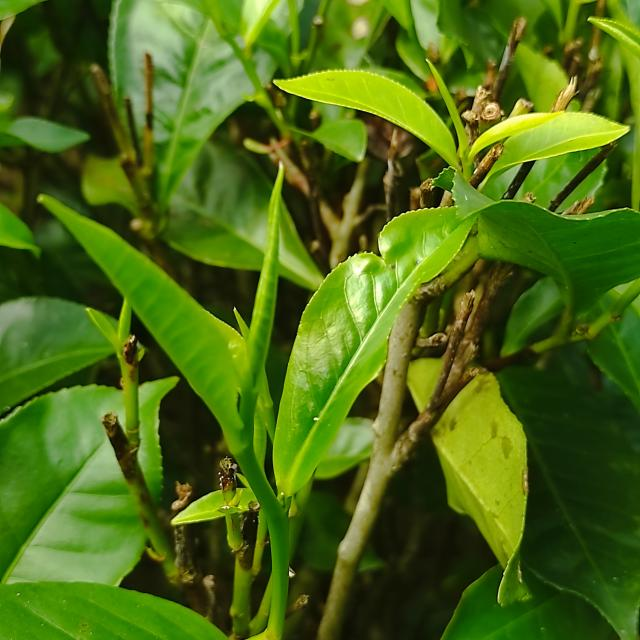unopened_leaf: (232, 157, 289, 457), (419, 50, 482, 187)
